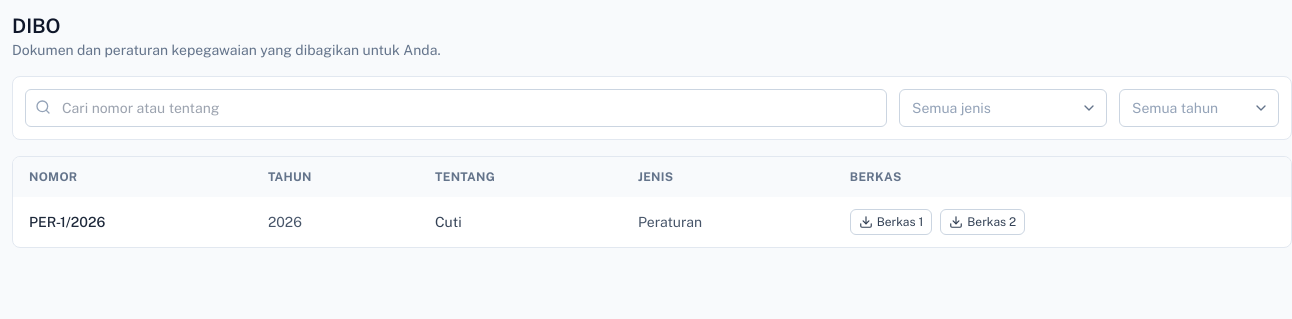
DiboBacaView › galat unduh tampil sebagai pesan server
What coordinates should you click on to do the following:
click the button with test id "dibo-unduh-3-1"
I would click on:
 (891, 222)
Its box is x1=850 y1=209 x2=932 y2=235.
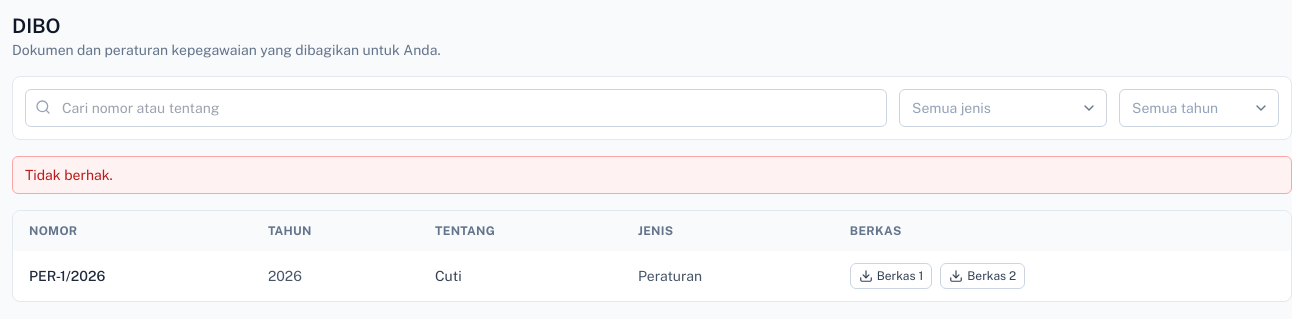
expect the message "Tidak berhak." is shown: met, box x1=12 y1=156 x2=1291 y2=194
